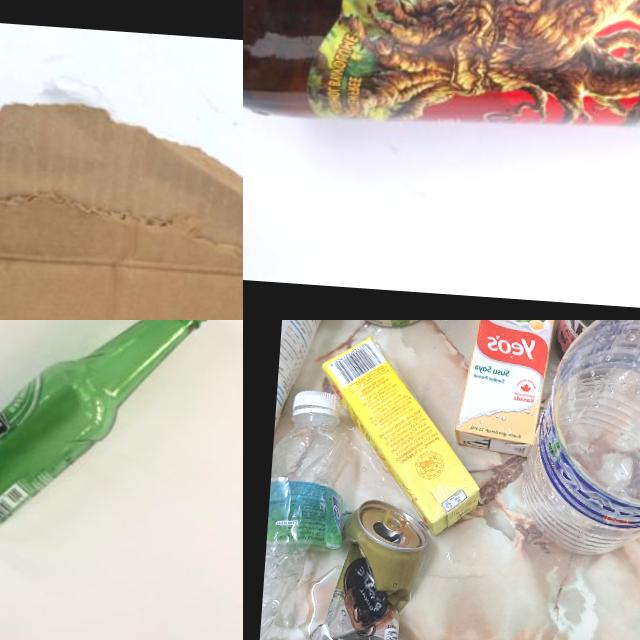aba de lata: (382, 504, 411, 536)
caixinha: (312, 332, 488, 532), (447, 320, 560, 464), (273, 320, 333, 449)
garrafa de vidro: (243, 0, 640, 157), (0, 320, 212, 569)
garrafa plástica: (524, 320, 640, 570), (257, 412, 357, 640)
lata: (310, 500, 433, 640)
papelão: (0, 84, 243, 320)
tampa plástica: (288, 384, 342, 416)
